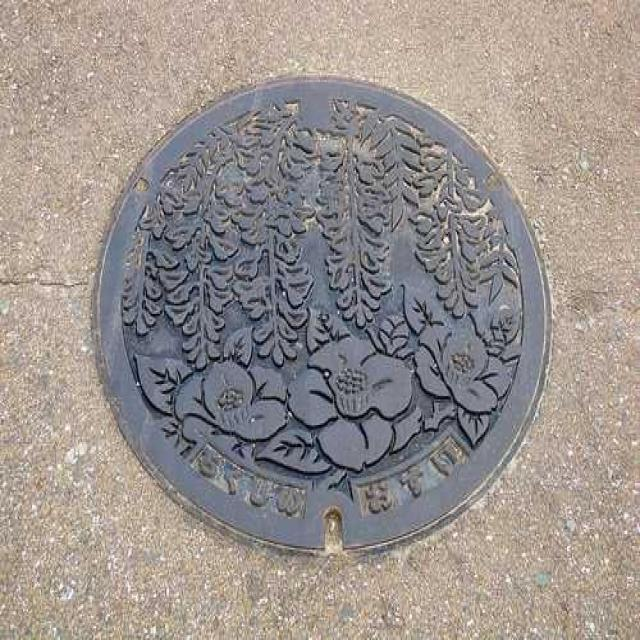manhole: (96, 78, 550, 550)
